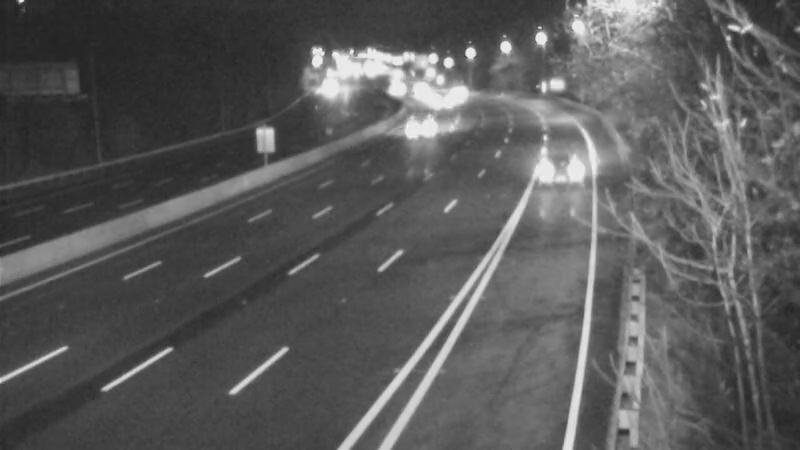vehicle: (518, 129, 598, 209), (377, 65, 427, 115), (410, 74, 460, 124), (386, 103, 436, 153)
